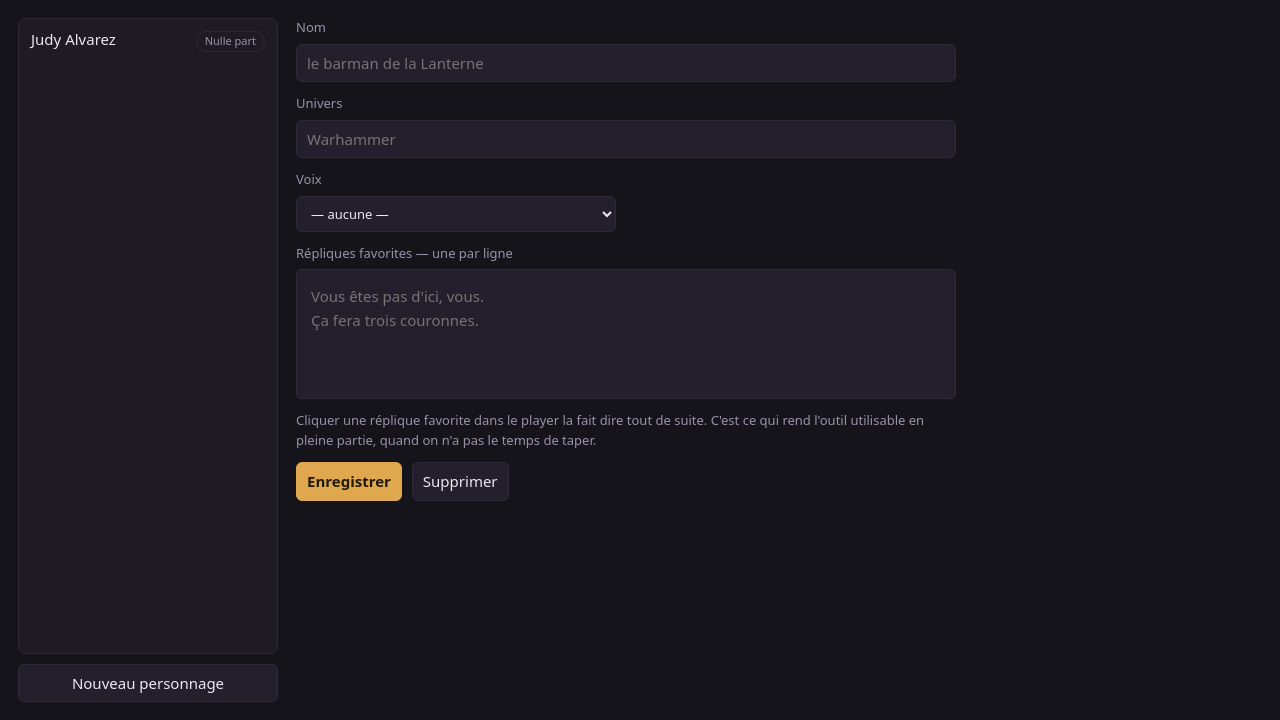
it: suppression › vide le formulaire une fois la fiche partie
The width and height of the screenshot is (1280, 720).
Click the list item "Judy Alvarez".
click(73, 39)  # box [31, 29, 265, 52]
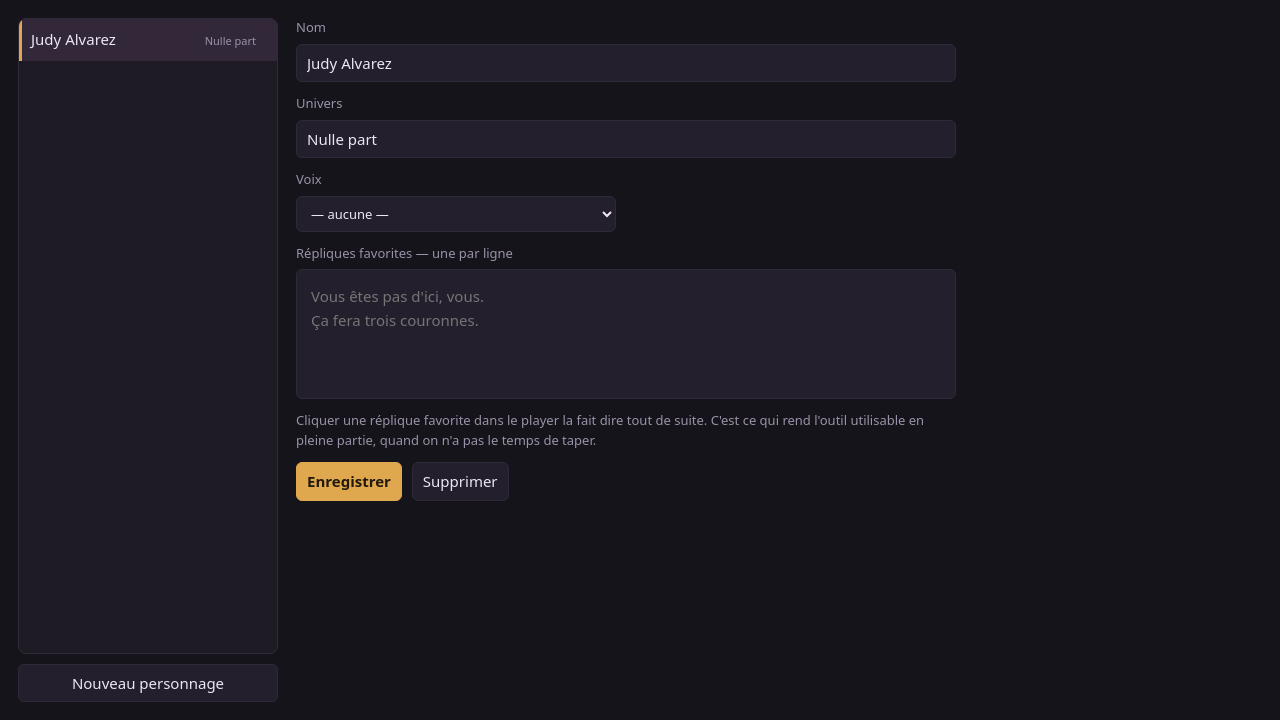
Now the field labelled "Nom" holds "Judy Alvarez", box [296, 44, 956, 82]
Click the button "Supprimer".
click(460, 481)  # box [412, 462, 509, 500]
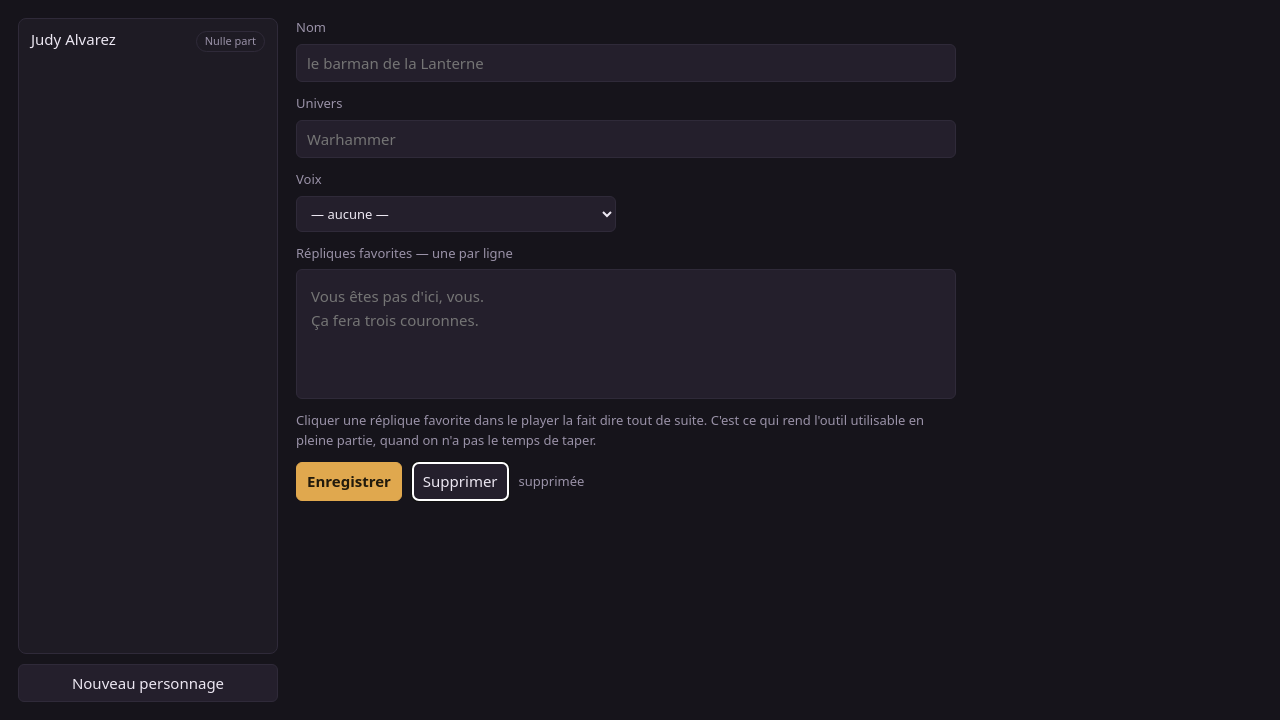
Now the text "supprimée" is shown, box [519, 472, 584, 491]
Now the field labelled "Nom" is empty, box [296, 44, 956, 82]
